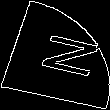N_W: (18, 28, 92, 82)
